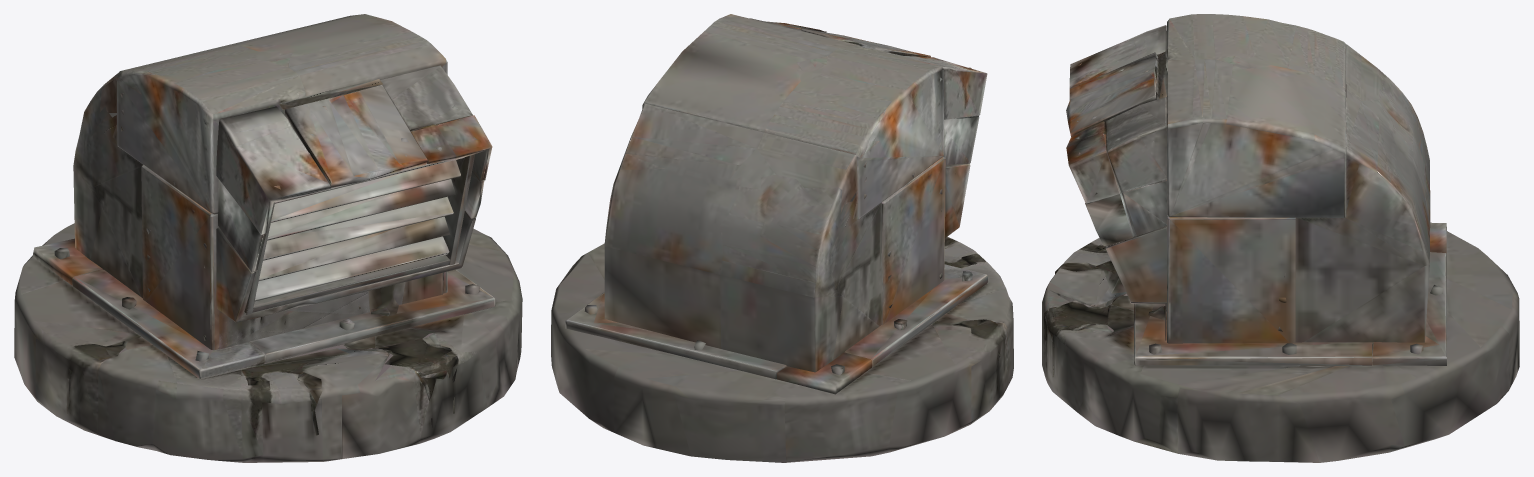
File: vent.glb
3 views of the same model, side by side, from view 1: azimuth 30°, elevation 25°; view 2: azimuth 150°, elevation 25°; view 3: azimuth 270°, elevation 25° (orthographic). The views are drawn at different scales.
Bounding box in the file's own units: 0.9551 × 0.6602 × 0.9556.
Materials: 1 (1 with a texture image).
